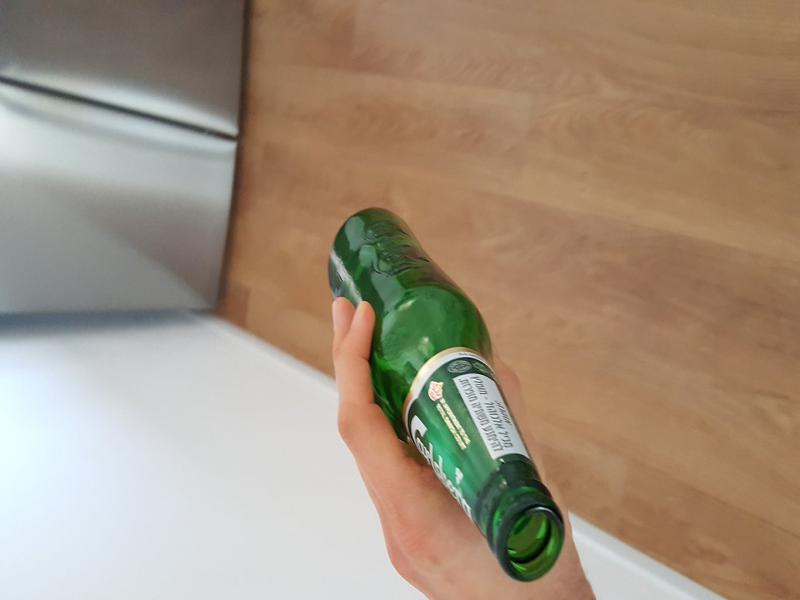Beer: (329, 207, 566, 583)
